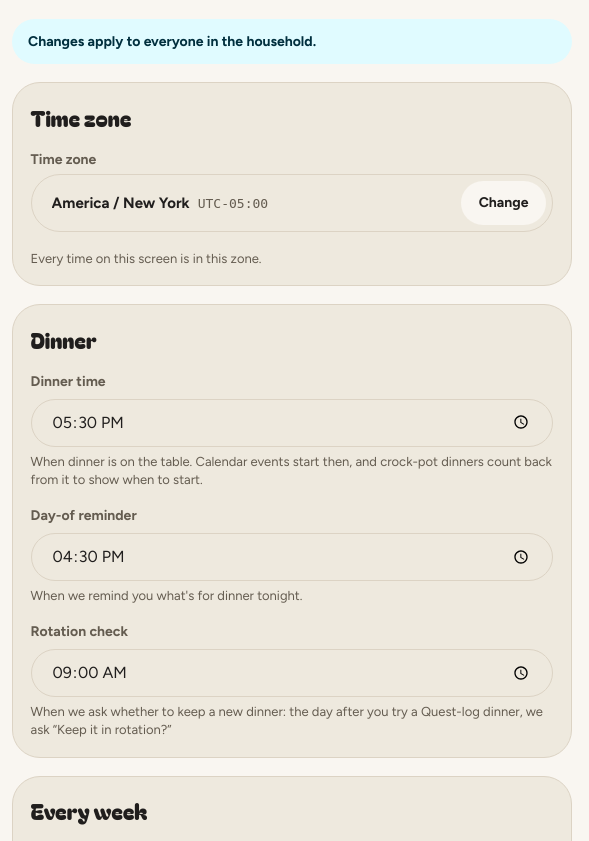
Scenario: HouseholdSettingsPage › saves only the edited fields
Replace the text in the time field labelled "Dinner time" with "18:15" at (292, 423), box [31, 399, 553, 447]
Replace the text in the time field labelled "Rotation check" with "10:00" at (292, 673), box [31, 649, 553, 697]
(page scrolled)
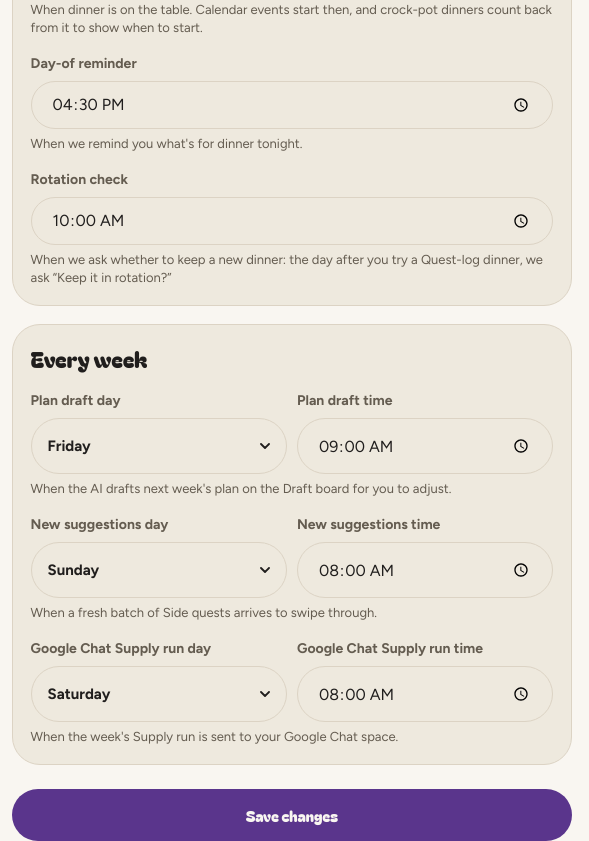
Select "Thursday" in the dropdown labelled "Plan draft day" at (159, 446), box [31, 418, 287, 474]
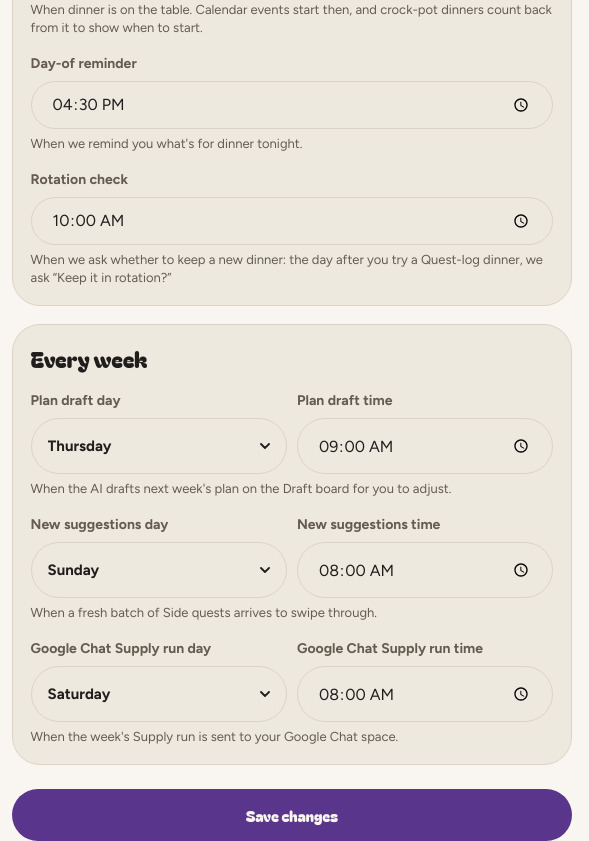
Replace the text in the time field labelled "Google Chat Supply run time" with "07:30" at (425, 694), box [297, 666, 553, 722]
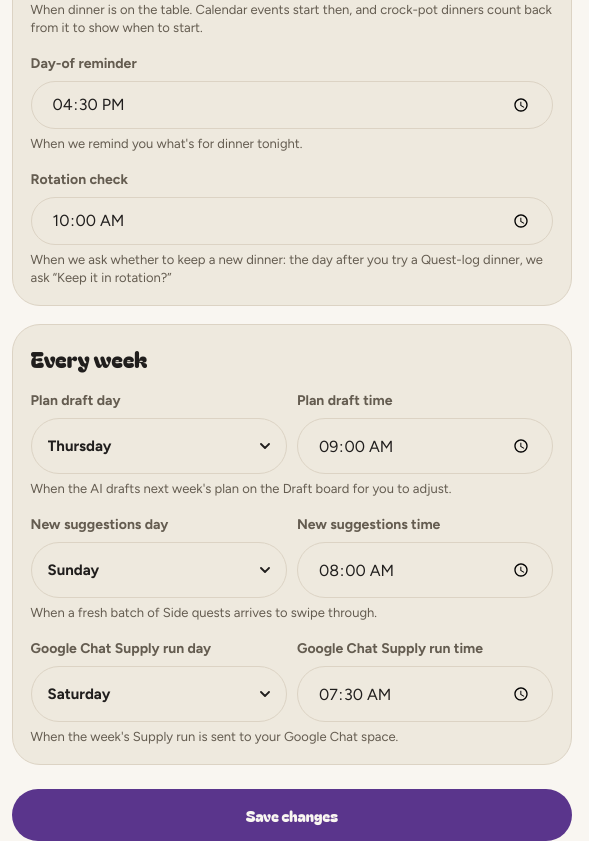
// Changed and changed back: not sent.
Replace the text in the time field labelled "Day-of reminder" with "16:00" at (292, 105), box [31, 81, 553, 129]
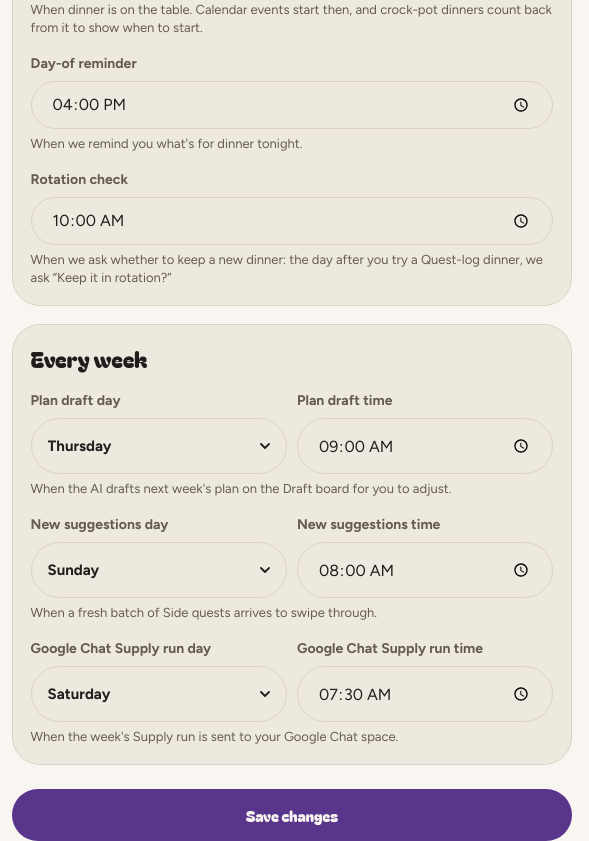
Replace the text in the time field labelled "Day-of reminder" with "16:30" at (292, 105), box [31, 81, 553, 129]
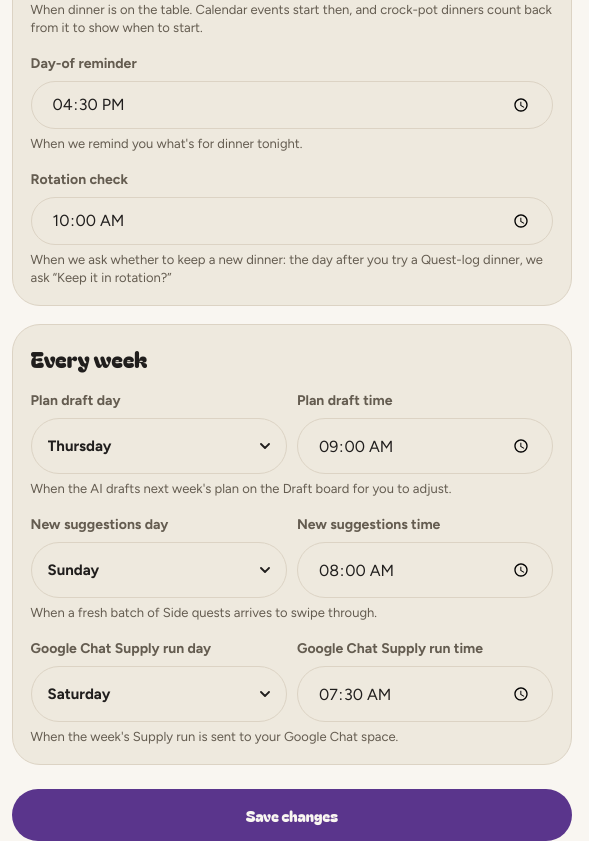
Click the button "Save changes" at (292, 815), box [12, 789, 572, 840]
(page scrolled)
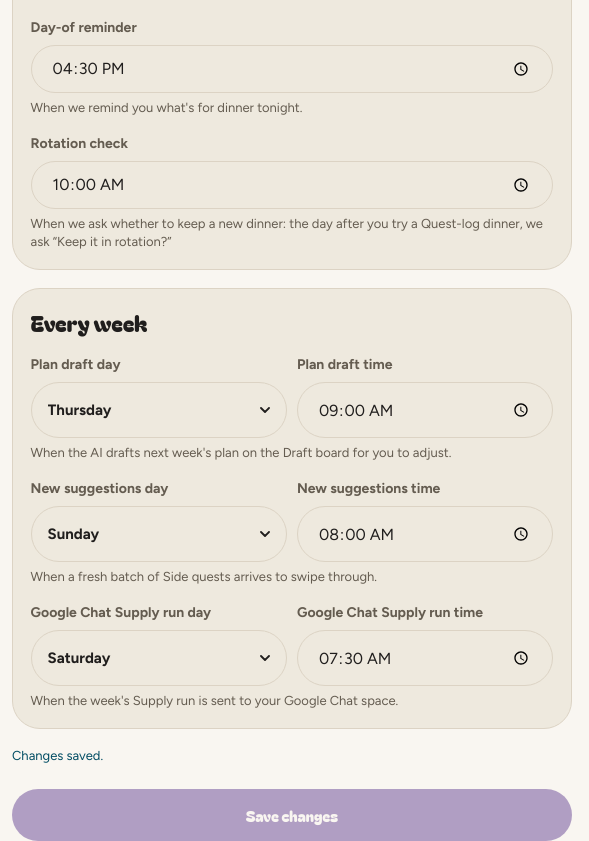
Expected: the text "Changes saved." is shown, [12, 748, 103, 763]
Expected: the button "Save changes" is disabled, [12, 789, 572, 840]
